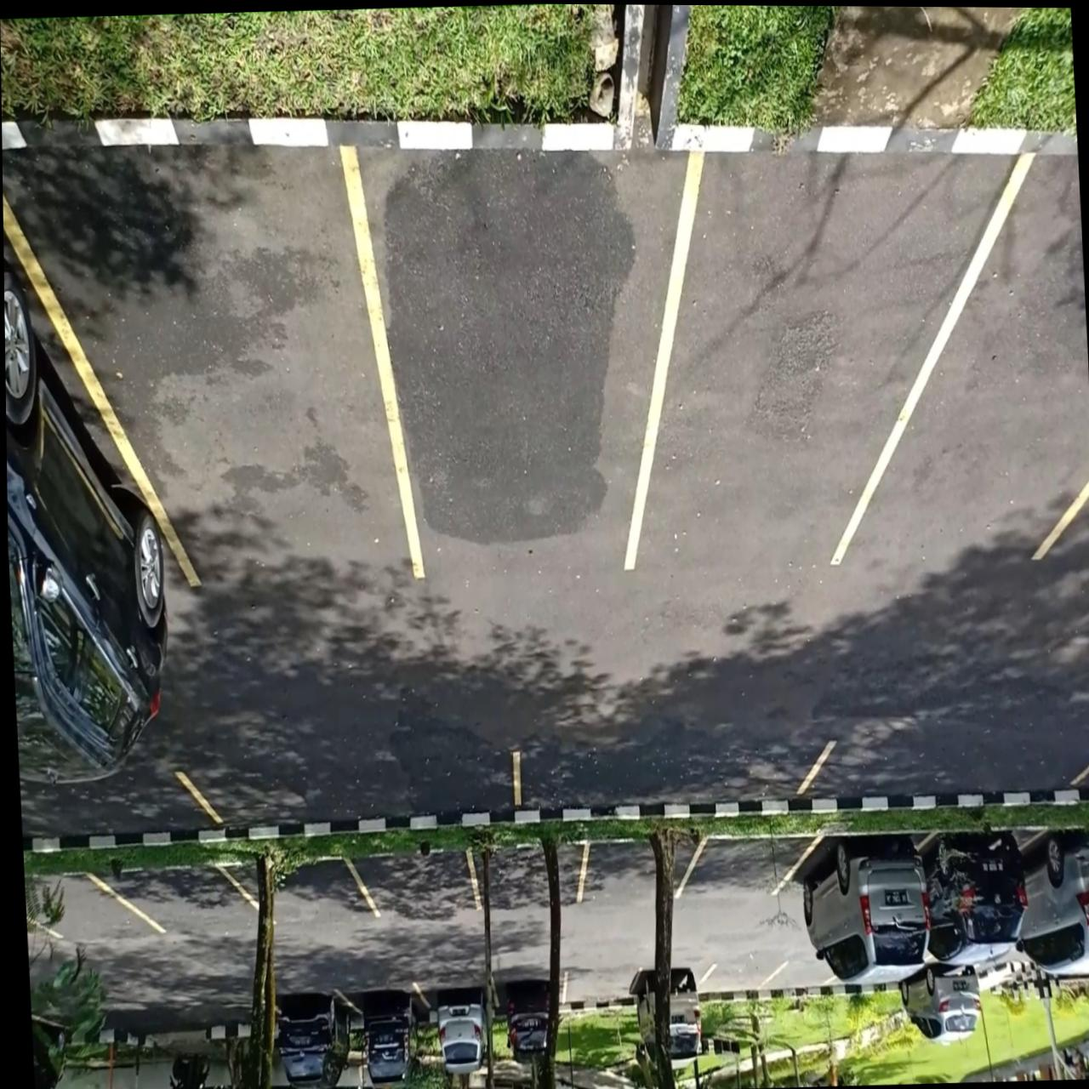cars: (776, 833, 936, 895), (337, 984, 433, 1021), (627, 964, 714, 1001), (415, 978, 499, 1015), (492, 973, 566, 1010)
empty: (3, 135, 417, 579), (628, 138, 1034, 562), (346, 136, 699, 573), (837, 141, 1089, 560), (179, 753, 518, 834), (517, 743, 831, 817), (791, 742, 1089, 805), (86, 864, 274, 931), (216, 857, 376, 924), (345, 849, 479, 914), (677, 835, 821, 895), (579, 837, 705, 901), (468, 843, 587, 906), (688, 963, 785, 998), (562, 968, 640, 1007)
